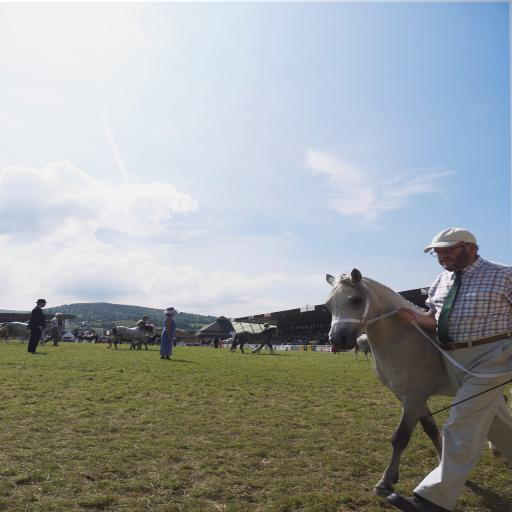horse: (326, 269, 509, 497), (0, 319, 59, 347), (230, 326, 279, 356), (106, 325, 159, 351)
